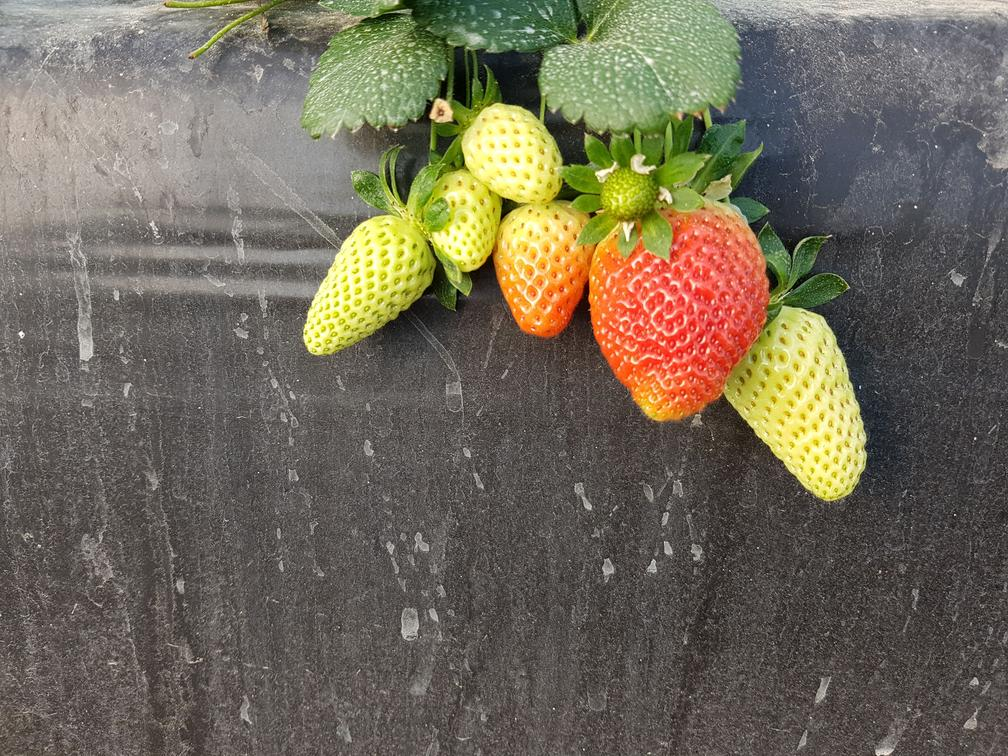Ripe: (589, 208, 773, 430)
